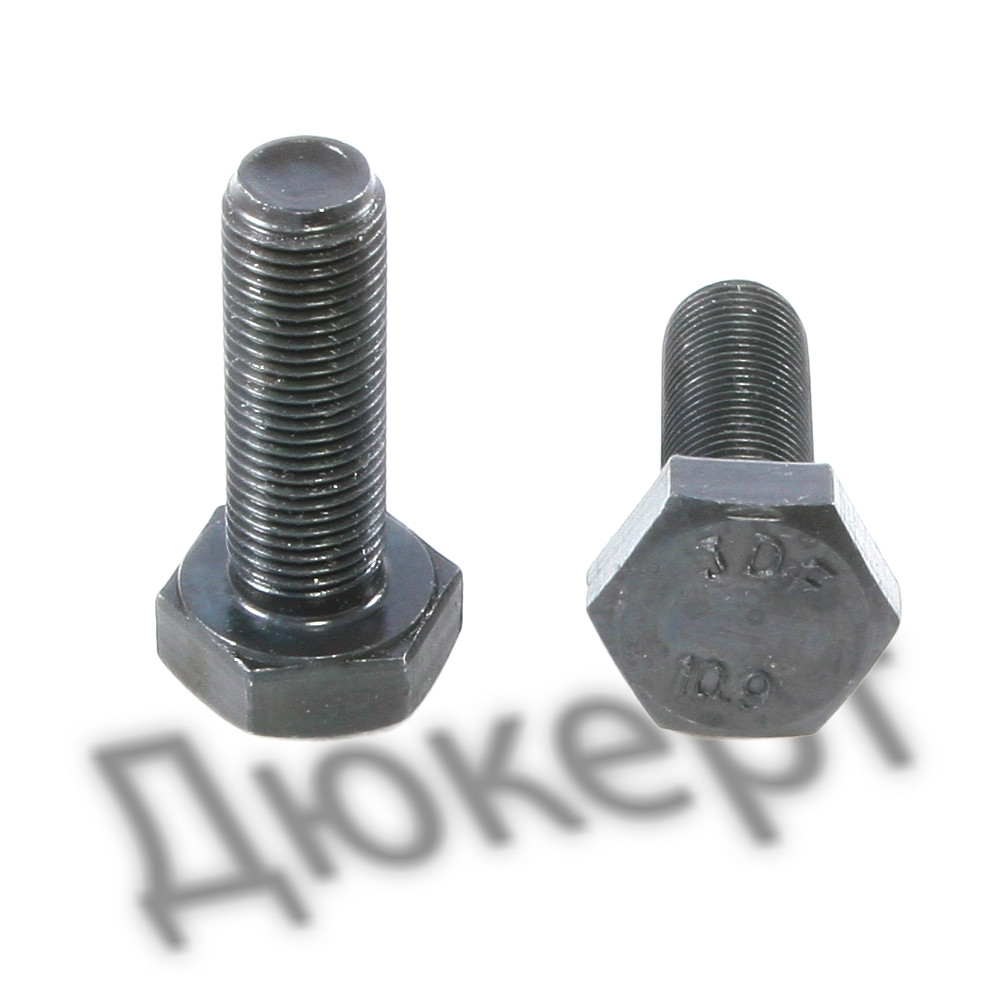screw: (155, 135, 465, 739), (584, 280, 904, 742)
